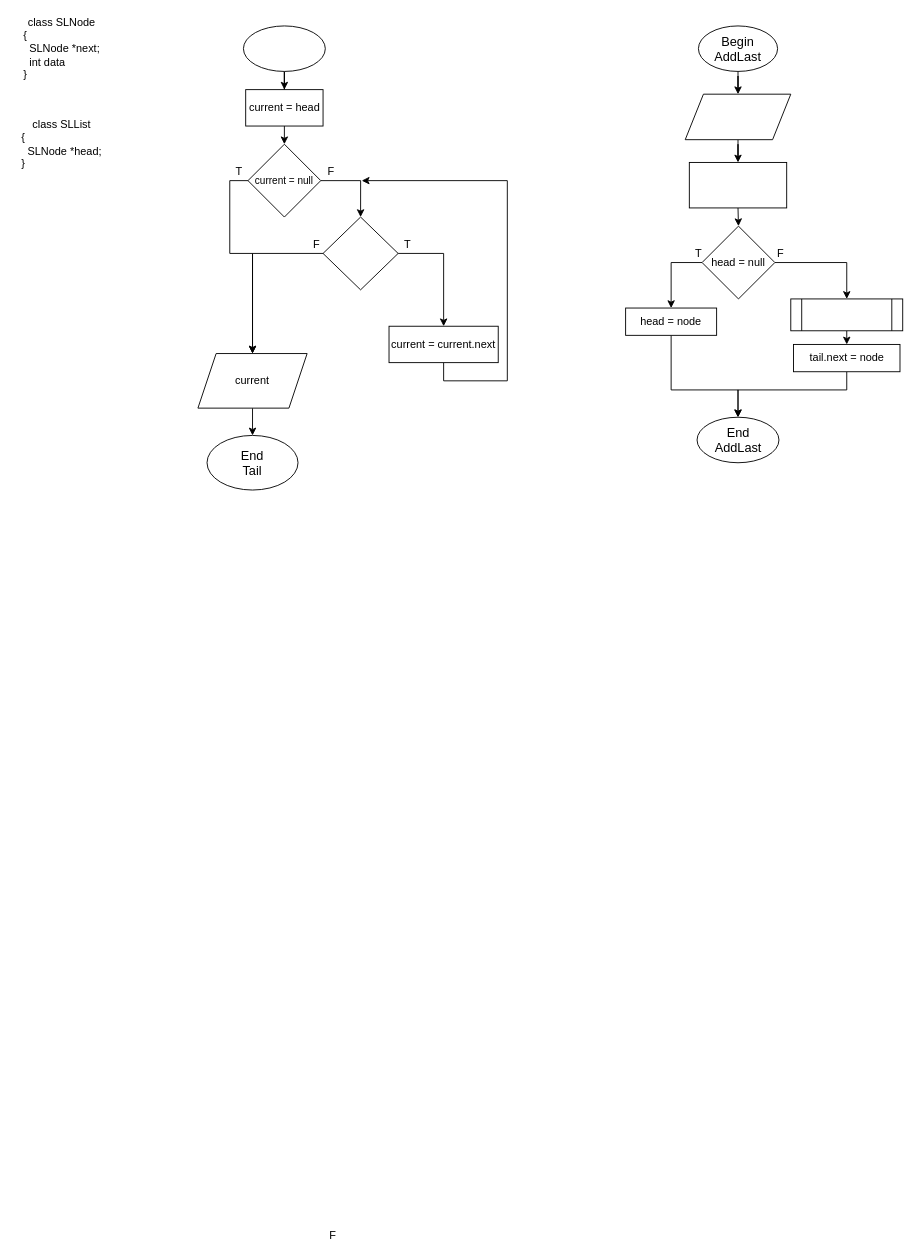
Image size: 918x1260. Some labels were removed from this diagram. Each missing label, with the centre of its shape:
"*node = new SLNode(data)" belongs at point (737, 185).
"Begin Tail" belongs at point (284, 48).
"current.next != null" belongs at point (360, 253).
"data" belongs at point (737, 116).
"tail = Tail()" belongs at point (846, 314).
